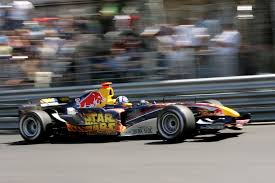FormulaOneCar: (14, 79, 254, 149)
